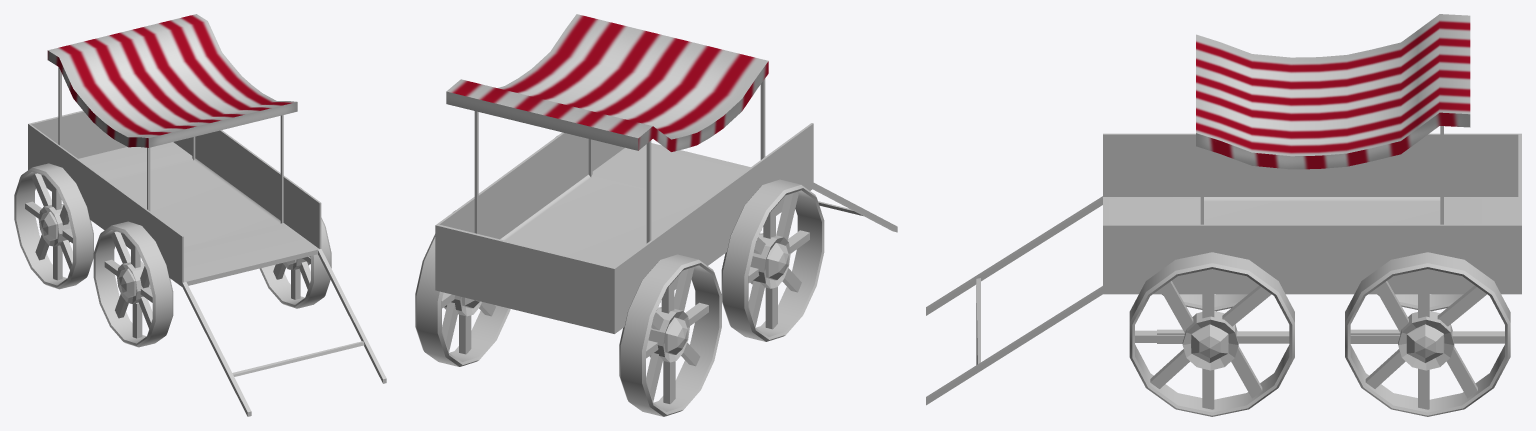
The model's file is Wheelbarrow.fbx.
3 views of the same model, side by side, from view 1: azimuth 30°, elevation 25°; view 2: azimuth 150°, elevation 25°; view 3: azimuth 270°, elevation 25° (orthographic). The views are drawn at different scales.
Parts seen in each view (by area): view 1: pCube1, pPlane2, pasted__pCylinder1, pasted__pasted__pCylinder1, pCylinder1, pCube3, pasted__pCylinder2, pasted__pasted__pCylinder2, pasted__pasted__pSphere1, pasted__pSphere1, pasted__pasted__pasted__pasted__pCube3, pasted__pasted__pasted__pasted__pasted__pasted__pasted__pCub (+1 smaller); view 2: pCube1, pPlane2, pasted__pCylinder1, pasted__pasted__pCylinder1, pasted__pCylinder4, pasted__pasted__pasted__pasted__pasted__pasted__pasted__past (×4), pasted__pasted__pCylinder2, pasted__pCylinder2, pasted__pasted__pSphere1, pasted__pSphere1, pasted__pasted__pasted__pasted__pasted__pasted__pasted__pCub, pasted__pasted__pasted__pasted__pasted__pCube2 (+2 smaller); view 3: pCube1, pPlane2, pCylinder1, pasted__pCylinder4, pCylinder2, pasted__pCylinder3, pasted__pasted__pasted__pasted__pasted__pasted__pasted__pCub (×2), pasted__pSphere2, pSphere1, pasted__pasted__pasted__pasted__pasted__pCube5, pasted__pasted__pasted__pasted__pasted__pasted__pCube4, pasted__pasted__pasted__pasted__pasted__pasted__pCube5 (+9 smaller).
Boxes of the visible parts, x1,y1,x2,y2 form: pCube1: (28, 67, 386, 416); pPlane2: (47, 14, 297, 147); pasted__pCylinder1: (93, 221, 173, 347); pasted__pasted__pCylinder1: (14, 163, 93, 289); pCylinder1: (259, 188, 331, 308); pCube3: (232, 341, 364, 376); pasted__pCylinder2: (117, 261, 150, 303); pasted__pasted__pCylinder2: (38, 204, 70, 246); pasted__pasted__pSphere1: (40, 211, 58, 240); pasted__pSphere1: (118, 268, 136, 297); pasted__pasted__pasted__pasted__pCube3: (132, 302, 142, 338); pasted__pasted__pasted__pasted__pasted__pasted__pasted__pCub: (31, 173, 51, 206); pCube1: (435, 78, 897, 333); pPlane2: (446, 14, 768, 151); pasted__pCylinder1: (721, 179, 824, 341); pasted__pasted__pCylinder1: (619, 254, 721, 416); pasted__pCylinder4: (415, 210, 510, 366); pasted__pasted__pasted__pasted__pasted__pasted__pasted__past (×4): (442, 267, 764, 401); pasted__pasted__pCylinder2: (648, 307, 689, 362); pasted__pCylinder2: (750, 233, 790, 288); pasted__pasted__pSphere1: (664, 317, 687, 354); pasted__pSphere1: (765, 243, 788, 280); pasted__pasted__pasted__pasted__pasted__pasted__pasted__pCub: (776, 192, 798, 240); pasted__pasted__pasted__pasted__pasted__pCube2: (663, 361, 675, 403); pCube1: (926, 126, 1521, 405); pPlane2: (1196, 14, 1470, 169); pCylinder1: (1129, 252, 1294, 416); pasted__pCylinder4: (1345, 252, 1510, 416); pCylinder2: (1182, 311, 1238, 370); pasted__pCylinder3: (1398, 311, 1454, 370); pasted__pasted__pasted__pasted__pasted__pasted__pasted__pCub (×2): (1231, 281, 1408, 398); pasted__pSphere2: (1406, 324, 1444, 362); pSphere1: (1191, 324, 1228, 362); pasted__pasted__pasted__pasted__pasted__pCube5: (1222, 285, 1271, 326); pasted__pasted__pasted__pasted__pasted__pasted__pCube4: (1437, 285, 1486, 326); pasted__pasted__pasted__pasted__pasted__pasted__pCube5: (1160, 281, 1193, 332).
Size of the model in its own units: 13.02 by 14.86 by 26.76.
